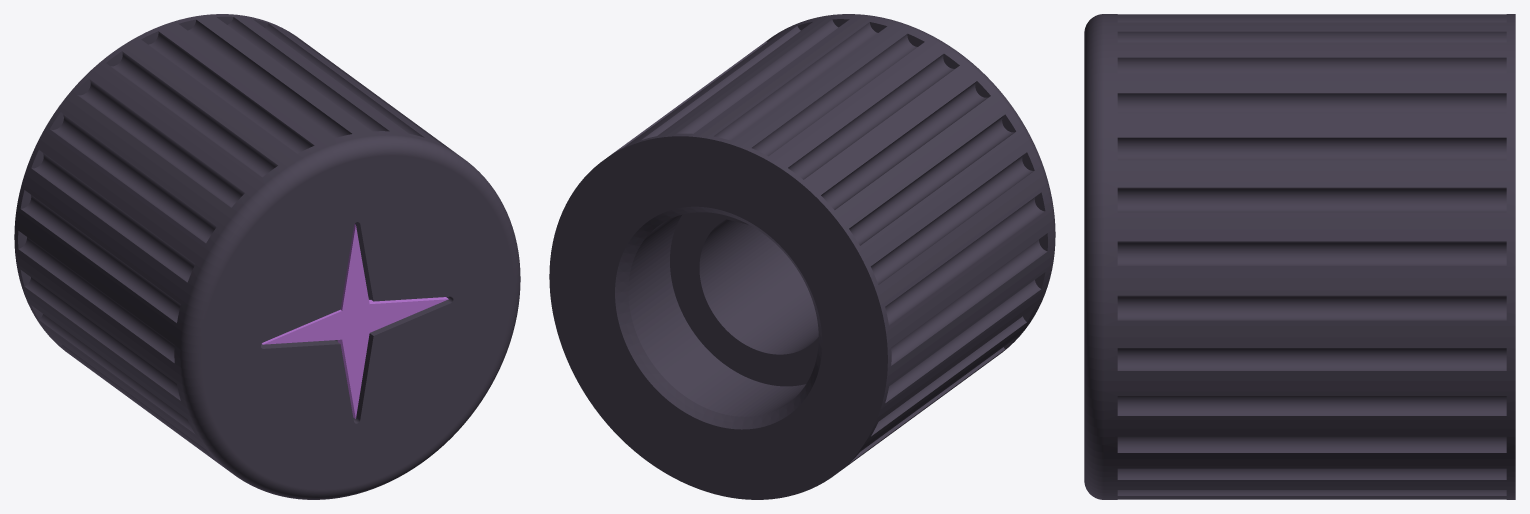
File: Knob_Assembled.glb
3 views of the same model, side by side, from view 1: azimuth 30°, elevation 25°; view 2: azimuth 150°, elevation 25°; view 3: azimuth 270°, elevation 25° (orthographic). The views are drawn at different scales.
Visible parts, largest first — view 1: Black_fluted_knob, Purple_star; view 2: Black_fluted_knob; view 3: Black_fluted_knob.
Boxes of the visible parts, bbox=[...] form: Black_fluted_knob: bbox=[14, 14, 520, 499]; Purple_star: bbox=[262, 224, 448, 418]; Black_fluted_knob: bbox=[549, 14, 1055, 499]; Black_fluted_knob: bbox=[1084, 14, 1515, 499].
Size of the model in its own units: 16 by 16 by 14.2.
